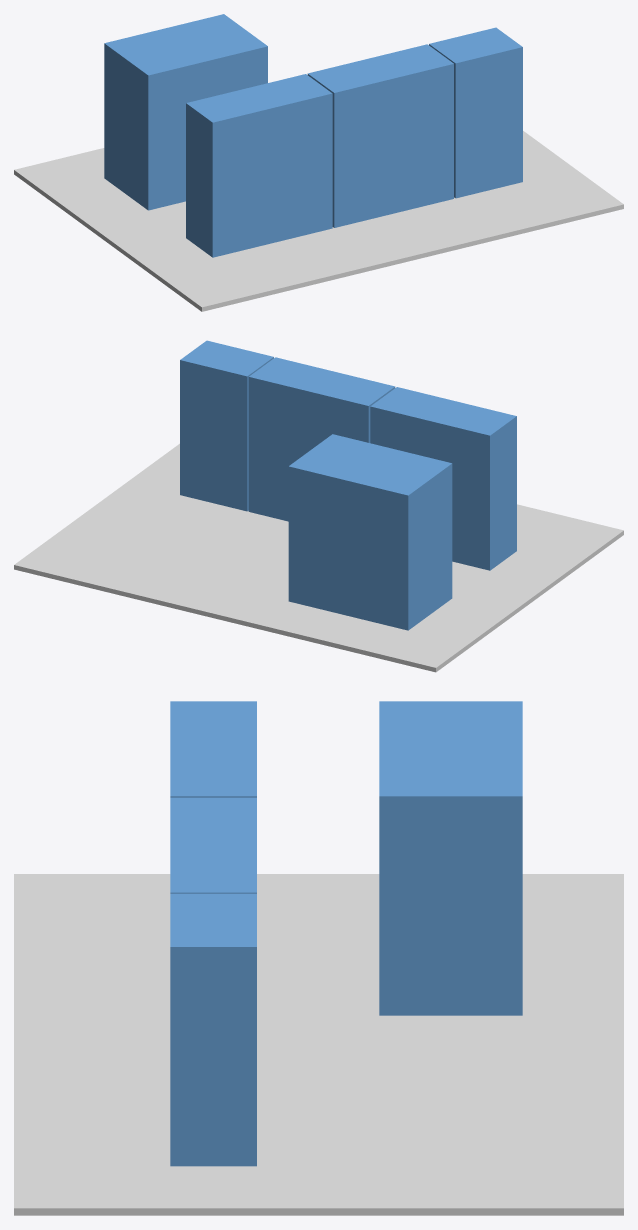
3 views of the same model, one above another, from view 1: azimuth 30°, elevation 25°; view 2: azimuth 150°, elevation 25°; view 3: azimuth 270°, elevation 25° (orthographic). The views are drawn at different scales.
Visible parts, largest first — view 1: Cube, Куб.002, Куб.001, Куб.003, Куб; view 2: Cube, Куб.003, Куб.002, Куб.001, Куб; view 3: Cube, Куб.003, Куб, Куб.001, Куб.002.
Boxes of the visible parts, x1=… form: Cube: x1=14, y1=131, x2=623, y2=311; Куб.002: x1=186, y1=74, x2=332, y2=257; Куб.001: x1=307, y1=44, x2=453, y2=227; Куб.003: x1=104, y1=14, x2=267, y2=210; Куб: x1=429, y1=27, x2=522, y2=198; Cube: x1=14, y1=443, x2=623, y2=672; Куб.003: x1=288, y1=434, x2=452, y2=630; Куб.002: x1=370, y1=387, x2=516, y2=570; Куб.001: x1=248, y1=357, x2=395, y2=521; Куб: x1=180, y1=340, x2=273, y2=511; Cube: x1=14, y1=874, x2=623, y2=1215; Куб.003: x1=379, y1=701, x2=522, y2=1015; Куб: x1=170, y1=893, x2=256, y2=1166; Куб.001: x1=170, y1=797, x2=256, y2=893; Куб.002: x1=170, y1=701, x2=256, y2=797.
Bounding box in the file's own units: 30.94 × 9.78 × 23.86.
